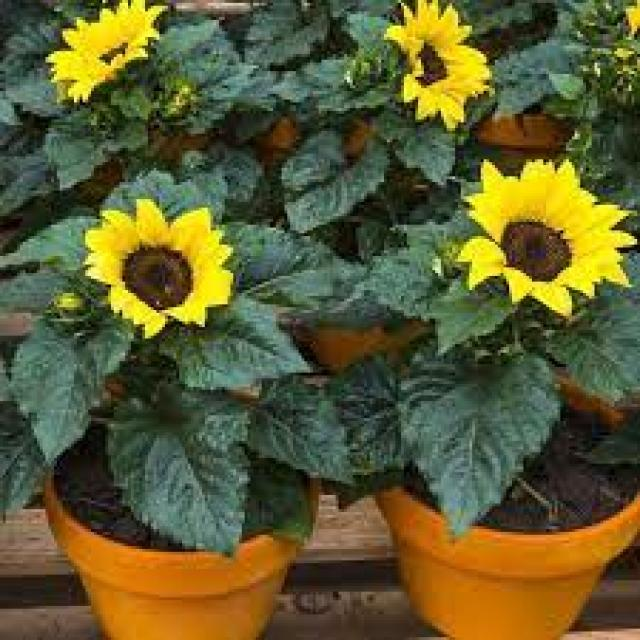sunflower: (443, 151, 640, 318), (83, 194, 255, 344), (36, 0, 176, 114), (376, 2, 493, 137)
